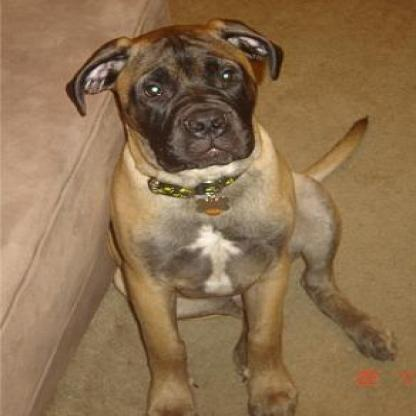bull_mastiff: (64, 14, 396, 414)
